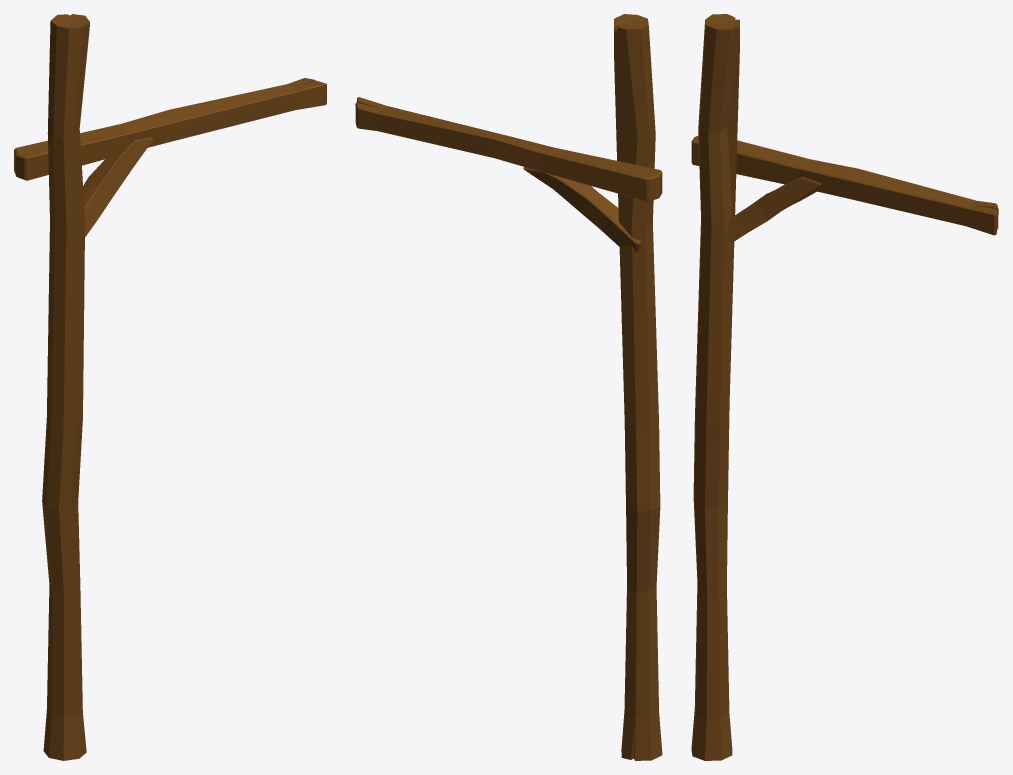
Rendered from Beach_House_Pole_01.fbx.
3 views of the same model, side by side, from view 1: azimuth 30°, elevation 25°; view 2: azimuth 150°, elevation 25°; view 3: azimuth 330°, elevation 25° (orthographic).
Parts seen in each view (by area): view 1: Beach_House_Pole_01; view 2: Beach_House_Pole_01; view 3: Beach_House_Pole_01.
Boxes of the visible parts, left/top/right/bottom form: Beach_House_Pole_01: left=14, top=14, right=326, bottom=760; Beach_House_Pole_01: left=355, top=14, right=662, bottom=760; Beach_House_Pole_01: left=691, top=14, right=998, bottom=760.
Bounding box in the file's own units: 6.6 × 15.04 × 1.25.
